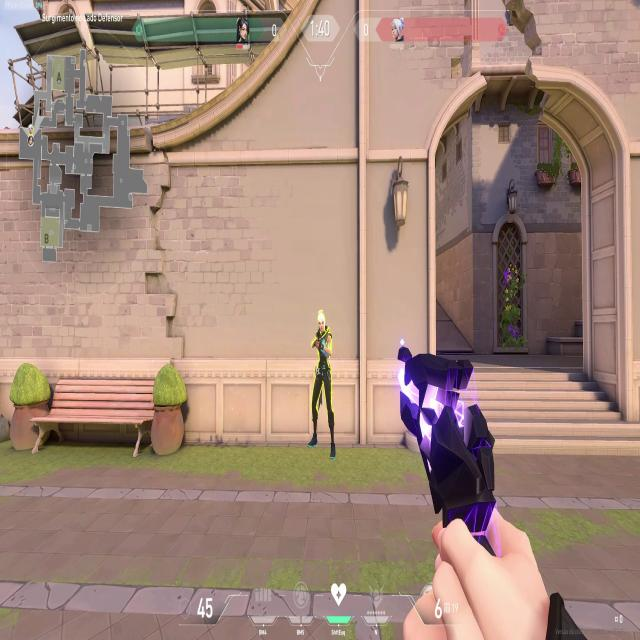head: (316, 310, 327, 336)
